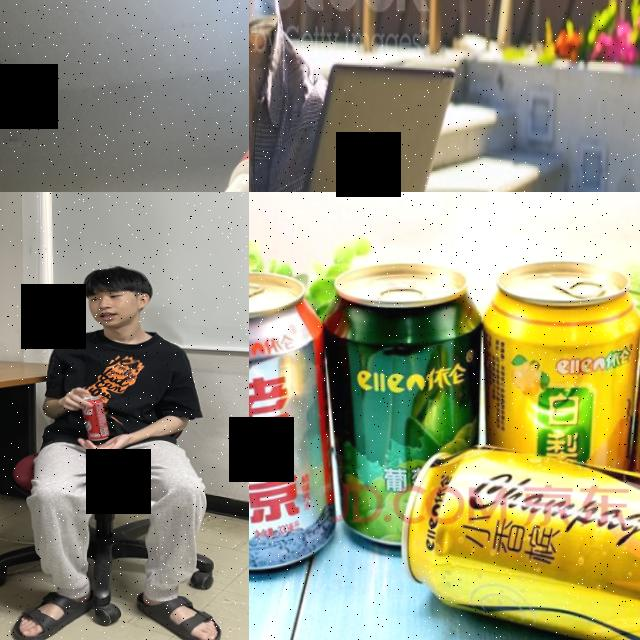can: (320, 255, 490, 562), (399, 441, 640, 640), (478, 254, 640, 476), (249, 271, 342, 585), (80, 394, 110, 442), (249, 0, 281, 35)
